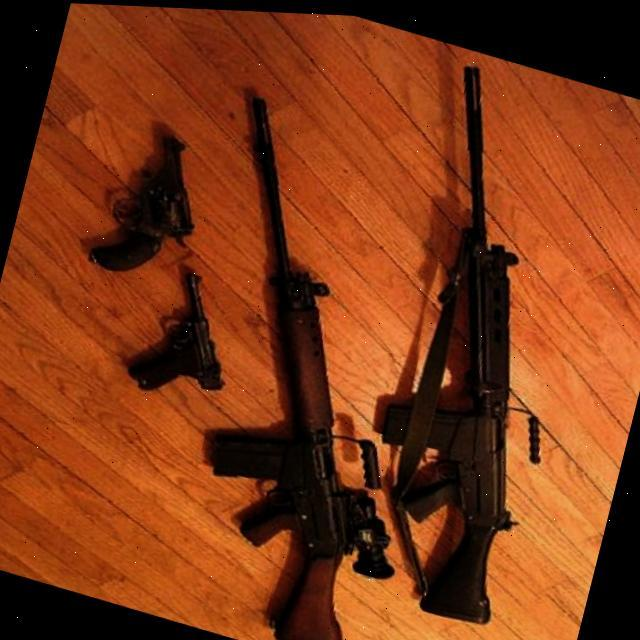gun: (86, 116, 216, 298), (121, 259, 247, 412)
